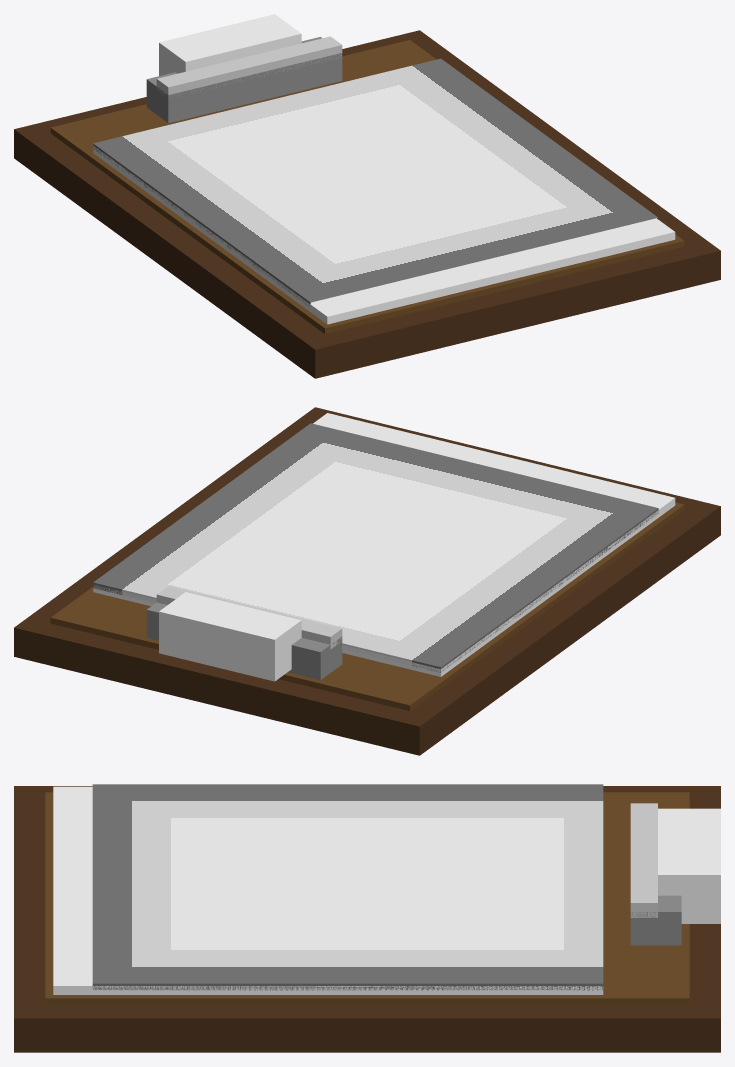
Rendered from CMU3DUtilityBoxFolderClipboardCloudPaperStudy.glb.
The picture shows the model from 3 angles, top to bottom: view 1: azimuth 30°, elevation 25°; view 2: azimuth 150°, elevation 25°; view 3: azimuth 270°, elevation 25°; orthographic projection. The views are drawn at different scales.
Visible parts, largest first — view 1: original optional paper inset, solid wooden clipboard backing, warm wood upper board, seated optional paper stack, silver clip lower spring foot, clip raised spring body, clip curved spring lip; view 2: original optional paper inset, solid wooden clipboard backing, warm wood upper board, clip raised spring body, seated optional paper stack, silver clip lower spring foot, clip curved spring lip; view 3: original optional paper inset, solid wooden clipboard backing, warm wood upper board, seated optional paper stack, clip raised spring body, clip curved spring lip, silver clip lower spring foot.
Boxes of the visible parts, x1=… form: original optional paper inset: x1=93, y1=58, x2=658, y2=306; solid wooden clipboard backing: x1=14, y1=30, x2=720, y2=378; warm wood upper board: x1=50, y1=40, x2=684, y2=333; seated optional paper stack: x1=93, y1=145, x2=675, y2=324; silver clip lower spring foot: x1=146, y1=37, x2=342, y2=123; clip raised spring body: x1=159, y1=14, x2=301, y2=75; clip curved spring lip: x1=156, y1=36, x2=342, y2=97; original optional paper inset: x1=93, y1=423, x2=658, y2=672; solid wooden clipboard backing: x1=14, y1=407, x2=720, y2=755; warm wood upper board: x1=50, y1=502, x2=684, y2=710; clip raised spring body: x1=159, y1=592, x2=301, y2=681; seated optional paper stack: x1=93, y1=413, x2=675, y2=676; silver clip lower spring foot: x1=146, y1=602, x2=342, y2=680; clip curved spring lip: x1=156, y1=586, x2=342, y2=649; original optional paper inset: x1=92, y1=784, x2=603, y2=990; solid wooden clipboard backing: x1=14, y1=786, x2=720, y2=1052; warm wood upper board: x1=45, y1=792, x2=689, y2=1004; seated optional paper stack: x1=53, y1=786, x2=603, y2=994; clip raised spring body: x1=658, y1=808, x2=720, y2=923; clip curved spring lip: x1=630, y1=803, x2=657, y2=917; silver clip lower spring foot: x1=630, y1=895, x2=681, y2=945.
Bounding box in the file's own units: 0.4375 × 0.083 × 0.5625.
Materials: 6 (1 with a texture image).
